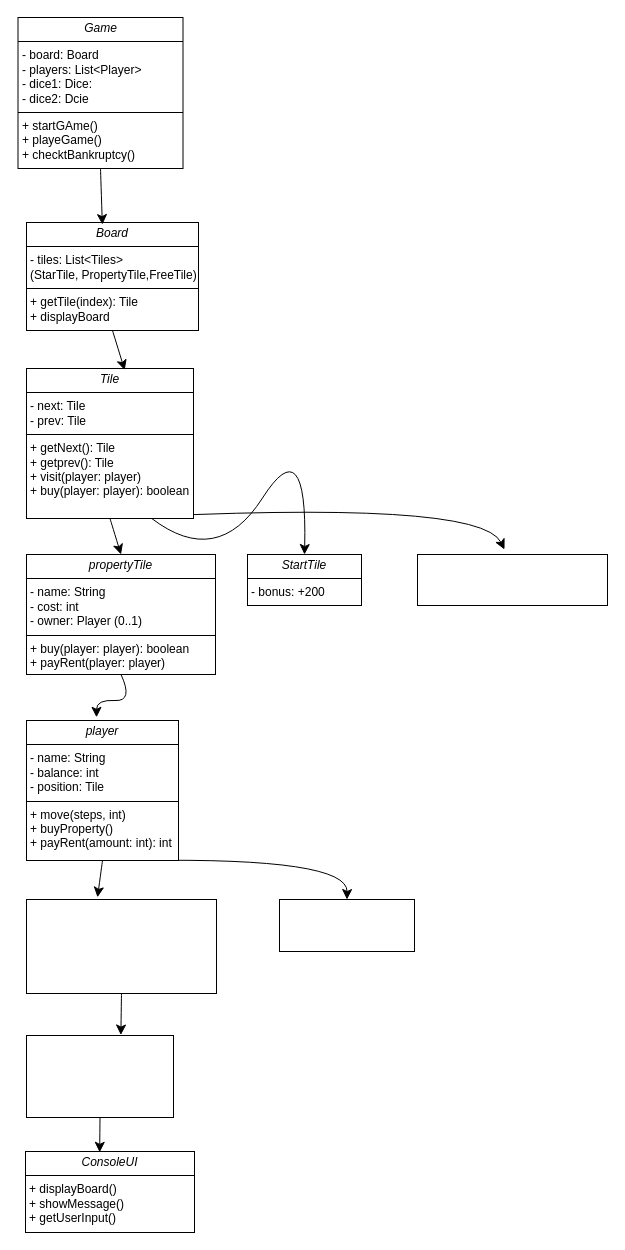
This 625x1250 diagram has some shape labels left out. Here are the shapes that lost their labels. From the top down, the centre of each, then its label:
[512,580]: FreeTile "No effect when landed on"
[346,925]: AIPlayer - isAI: bool
[121,946]: HumanPlayer - isAI: bool - ui: ConsoleUI + takenTurn()
[100,1076]: Dice - value: int + roll(): int
